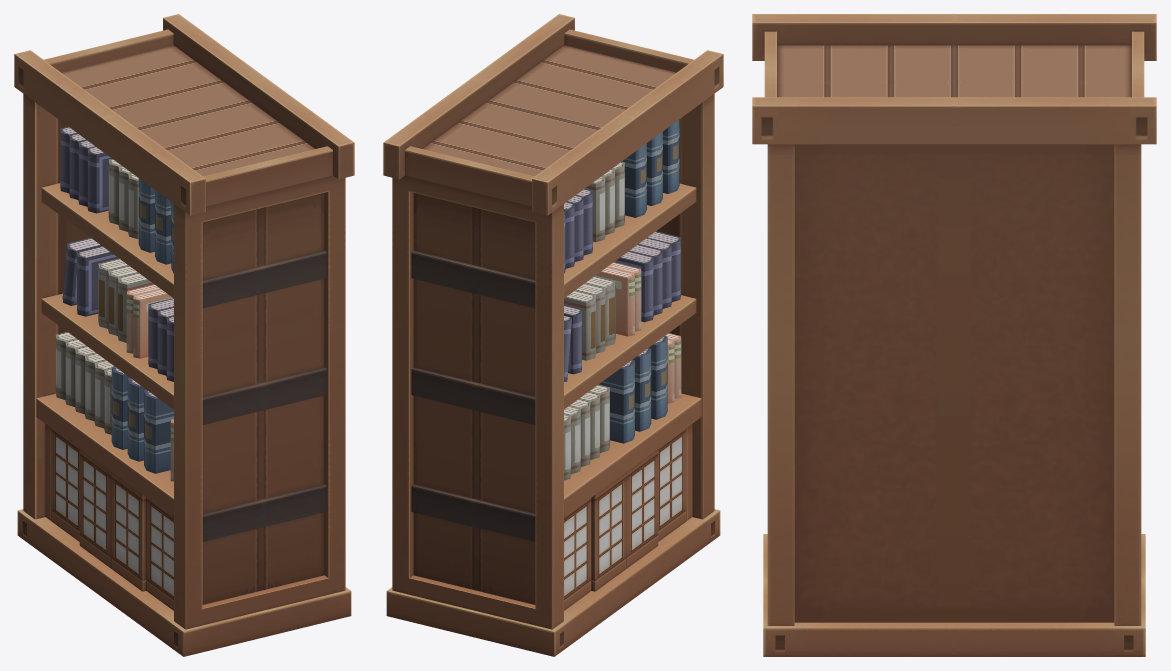
The model's file is my_hyakkiyako_01_bookshelf_01.glb.
The picture shows the model from 3 angles, left to right: view 1: azimuth 30°, elevation 25°; view 2: azimuth 150°, elevation 25°; view 3: azimuth 270°, elevation 25°; orthographic projection. The views are drawn at different scales.
Visible parts, largest first — view 1: my_hyakkiyako_01_bookshelf_01; view 2: my_hyakkiyako_01_bookshelf_01; view 3: my_hyakkiyako_01_bookshelf_01.
Boxes of the visible parts, x1,y1,x2,y2 form: my_hyakkiyako_01_bookshelf_01: (14,14,354,656); my_hyakkiyako_01_bookshelf_01: (383,14,723,656); my_hyakkiyako_01_bookshelf_01: (752,14,1156,656).
Bounding box in the file's own units: 0.00457 × 0.0124 × 0.00829.
Materials: 1 (1 with a texture image).
